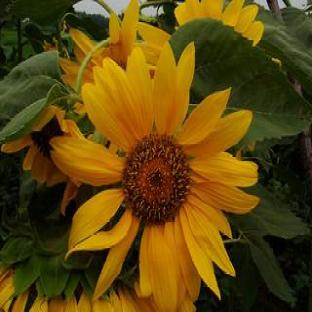sunflower: (49, 43, 259, 311)
